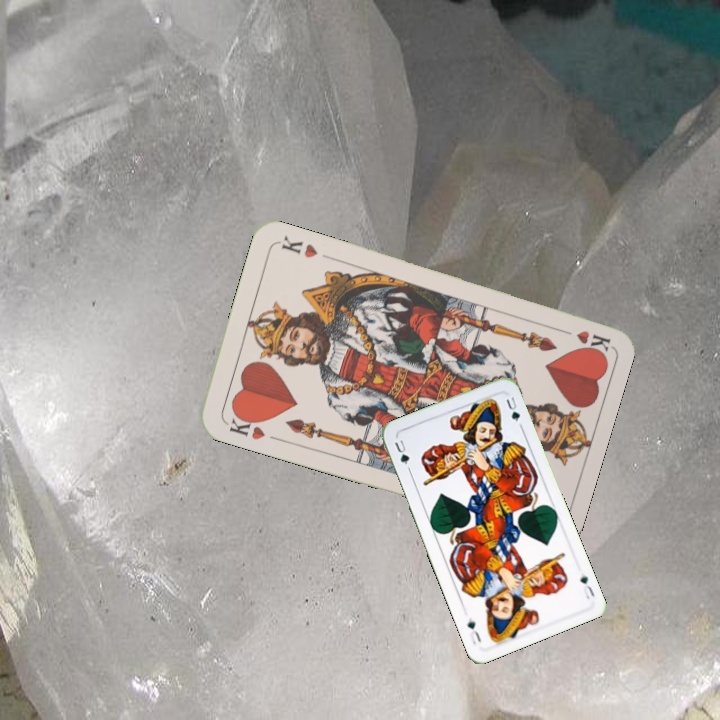GU: (390, 435, 412, 467), (576, 569, 597, 602)
HK: (553, 324, 612, 354), (222, 409, 268, 443)
